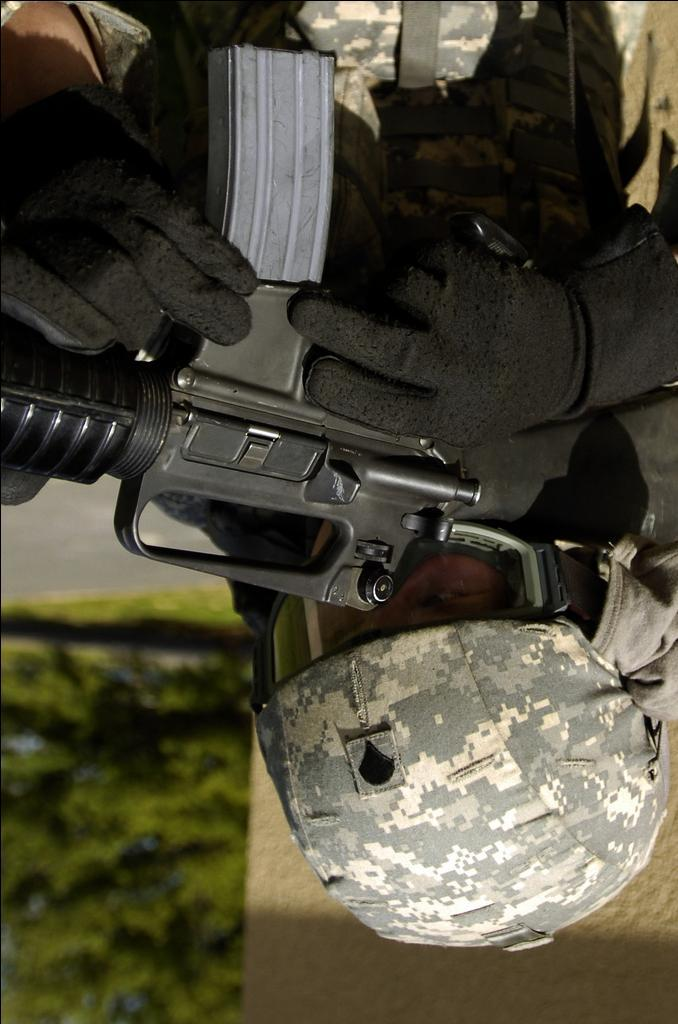gun: (0, 46, 678, 618)
